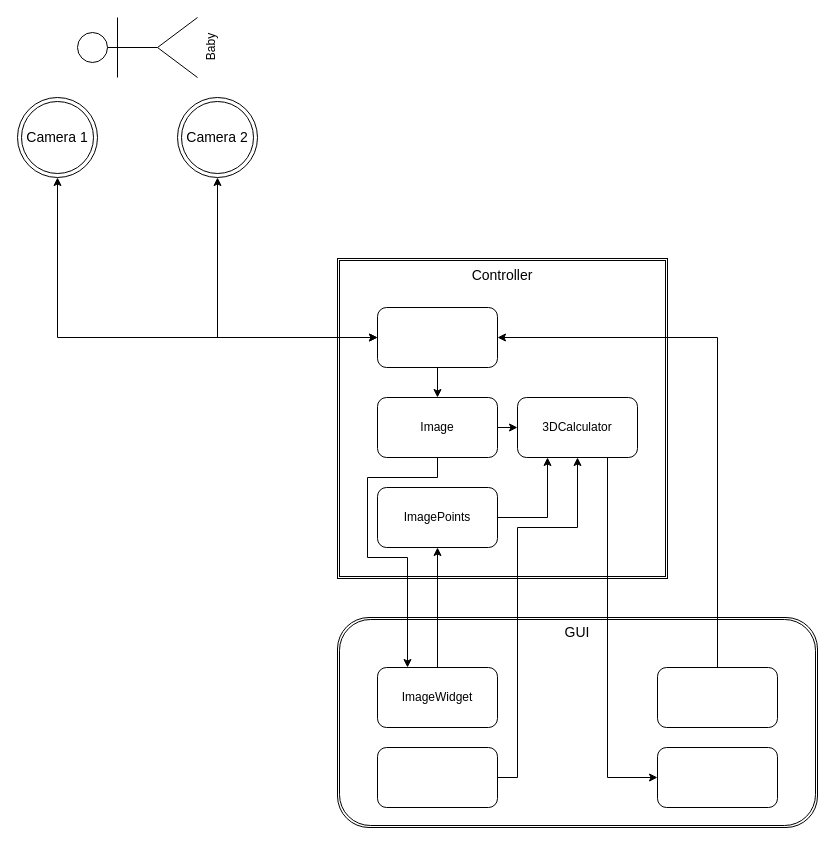
The diagram is 835 pixels wide and 845 high, and some of its shapes have lost their labels. The centre of each missing label's shape, as x and y in pixels:
"CalculateButton" belongs at point 437,777.
"CameraControl" belongs at point 437,337.
"ResultInformation" belongs at point 717,777.
"TakeImageButton" belongs at point 717,697.
